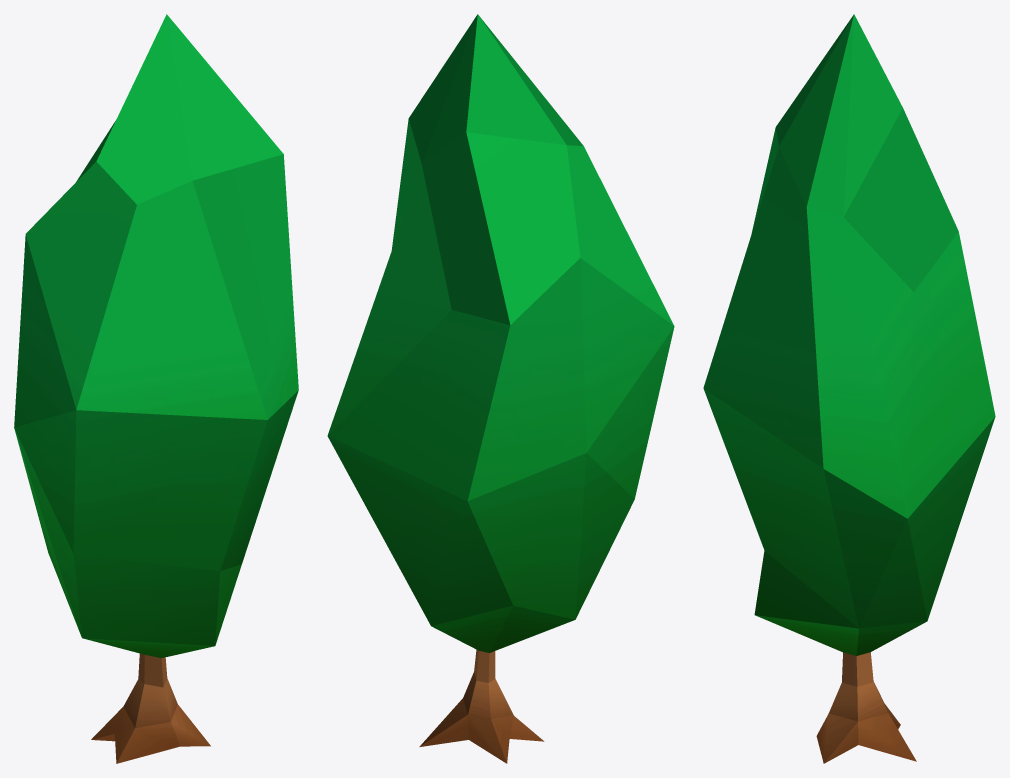
Rendered from bush2.glb.
The picture shows the model from 3 angles, left to right: view 1: azimuth 30°, elevation 25°; view 2: azimuth 150°, elevation 25°; view 3: azimuth 270°, elevation 25°; orthographic projection. The views are drawn at different scales.
Visible parts, largest first — view 1: bush2; view 2: bush2; view 3: bush2.
Part boxes in pixels (left/top/right/bottom): bush2: left=14, top=14, right=298, bottom=763; bush2: left=327, top=14, right=674, bottom=763; bush2: left=703, top=14, right=995, bottom=763.
Size of the model in its own units: 0.8979 by 2.31 by 0.8317.
Materials: 1 (1 with a texture image).
